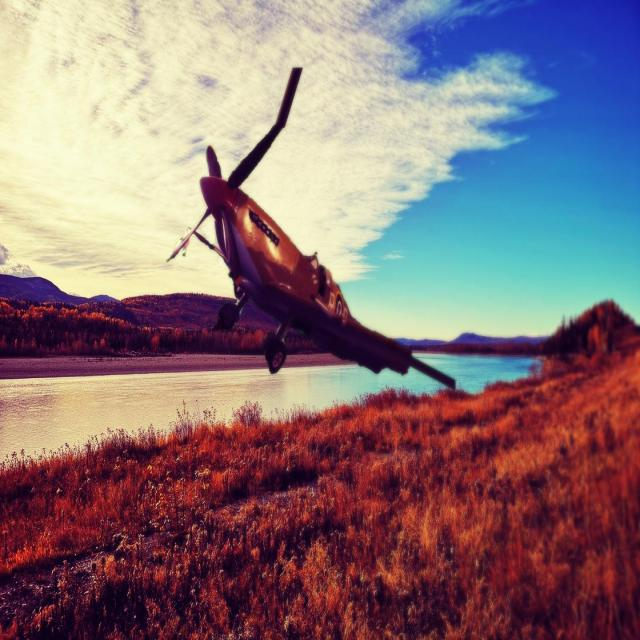airplane: (166, 65, 457, 390)
